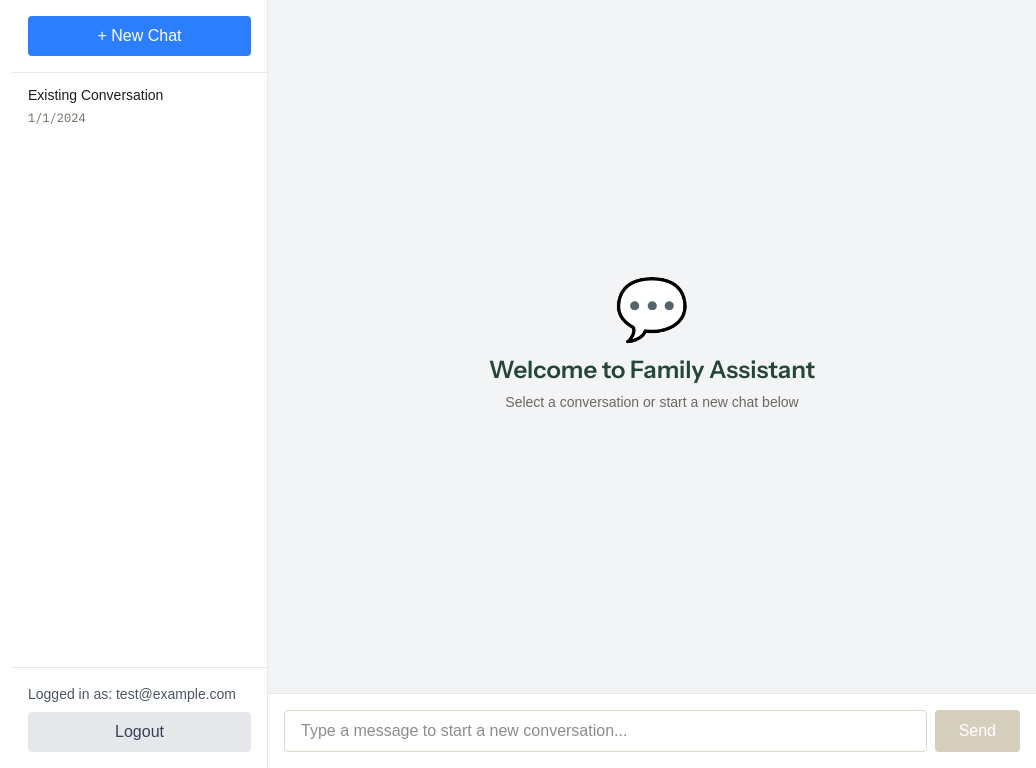
Test case: ConversationsChat › Existing conversation flow › preserves newer optimistic messages while reconciliation is pending
The width and height of the screenshot is (1036, 768).
Step 1. Click the text "Existing Conversation" → (96, 95), box [28,87,163,103]
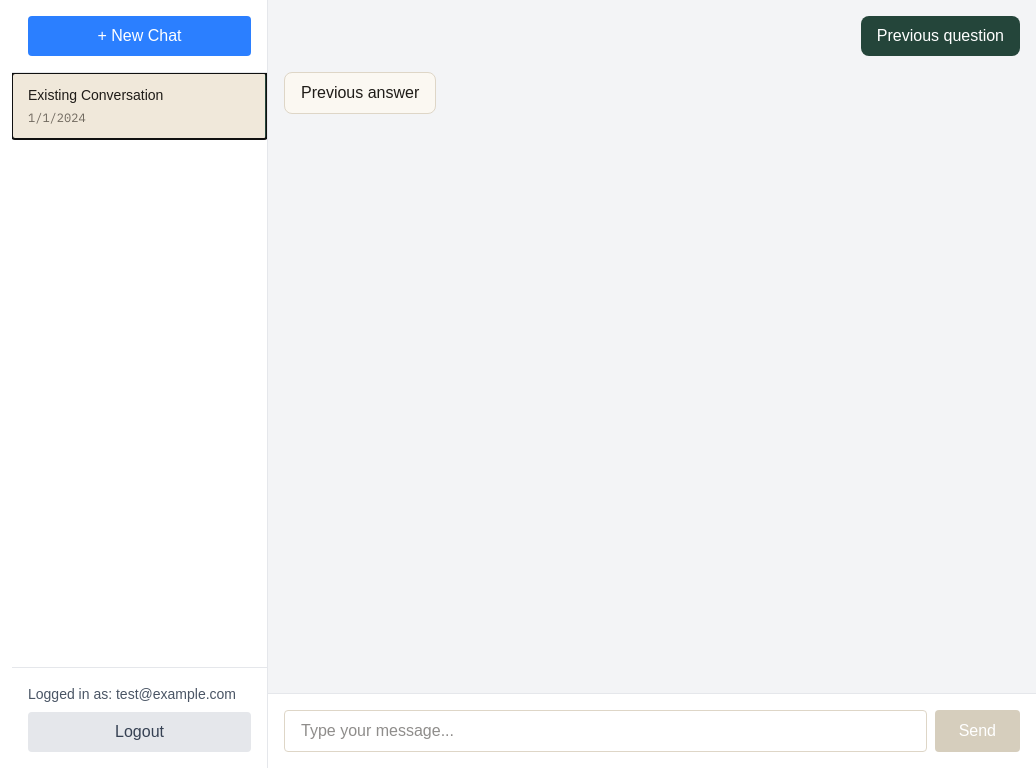
Expected: the text "Previous question" is shown, [877,24,1004,48]
Step 2. Type "First streamed follow-up" into the field with placeholder "Type your message..." → (605, 731), box [284,710,927,752]
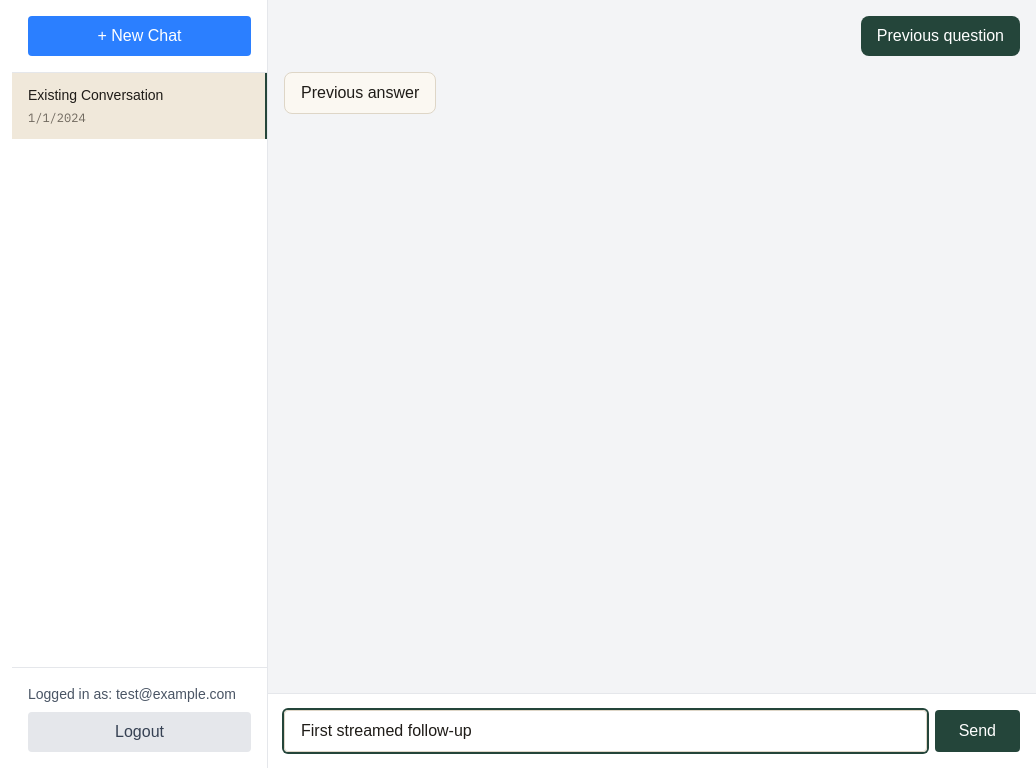
Step 3. Click the button "Send" → (977, 731), box [935,710,1020,752]
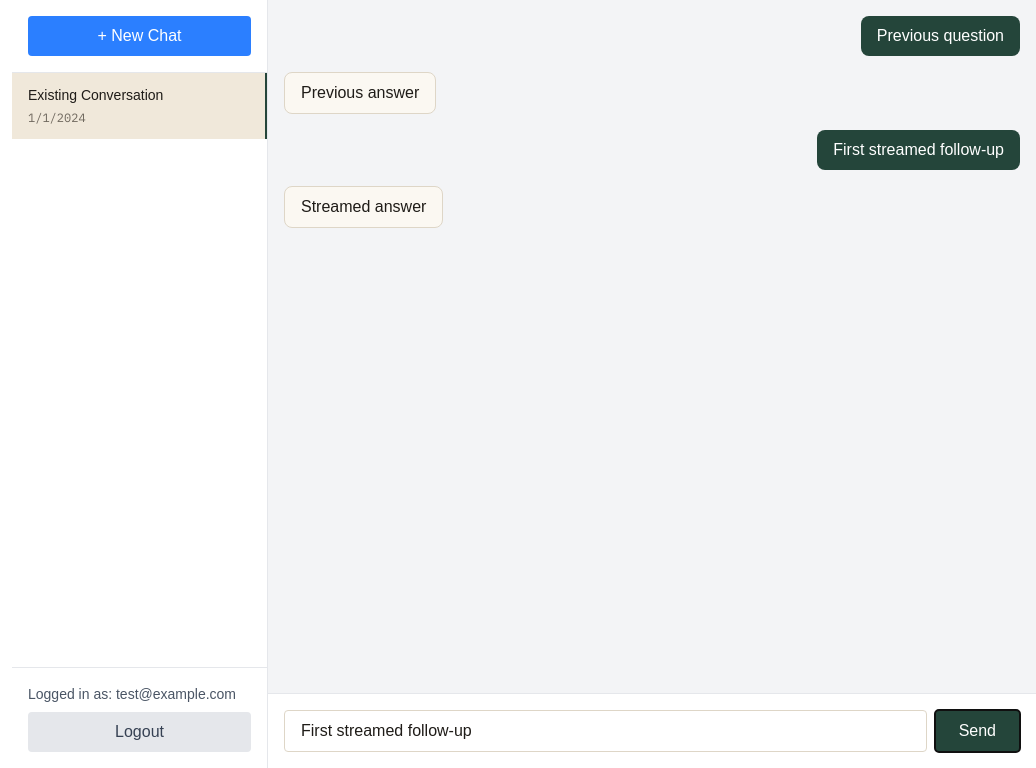
Step 4. Replace the text in the field with placeholder "Type your message..." with "Second optimistic follow-up" → (605, 731), box [284,710,927,752]
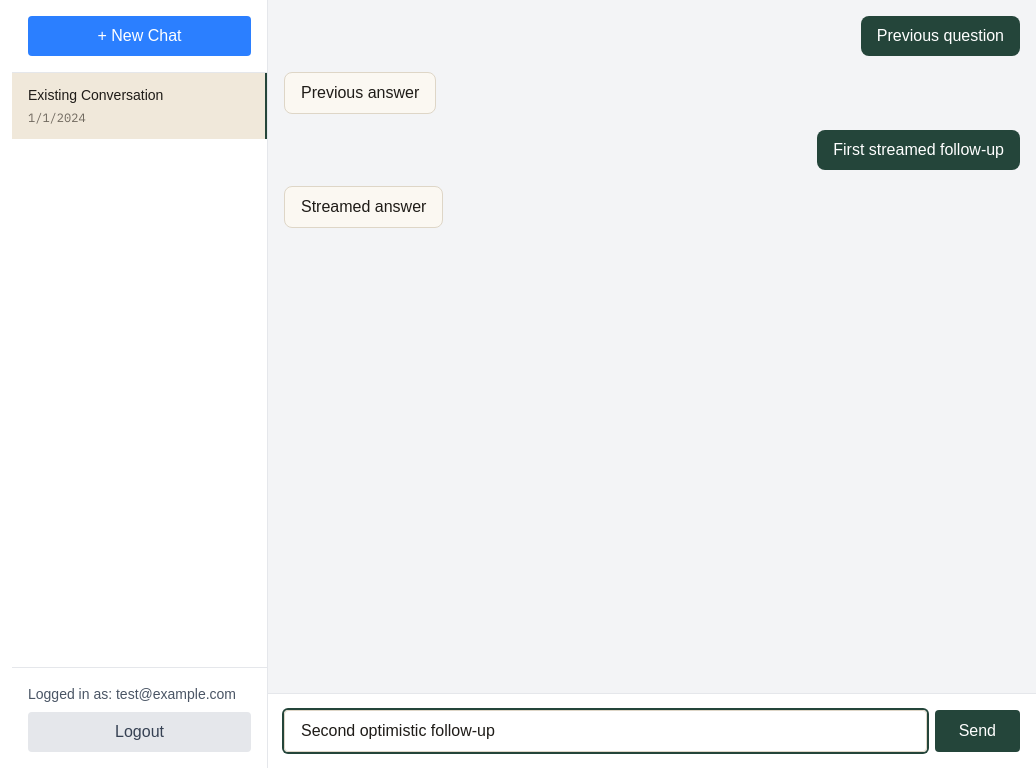
Step 5. Click the button "Send" → (977, 731), box [935,710,1020,752]
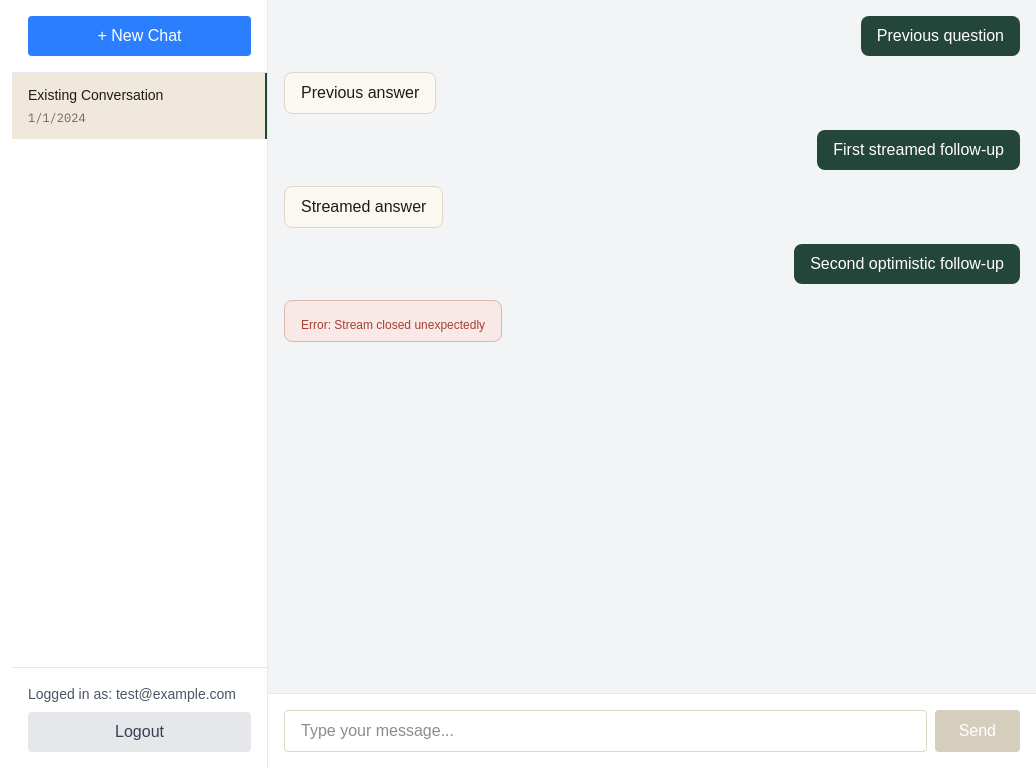
Expected: the text "Error: Stream closed unexpectedly" is shown, [301,317,485,333]
Expected: the text "Second optimistic follow-up" is shown, [810,252,1004,276]
